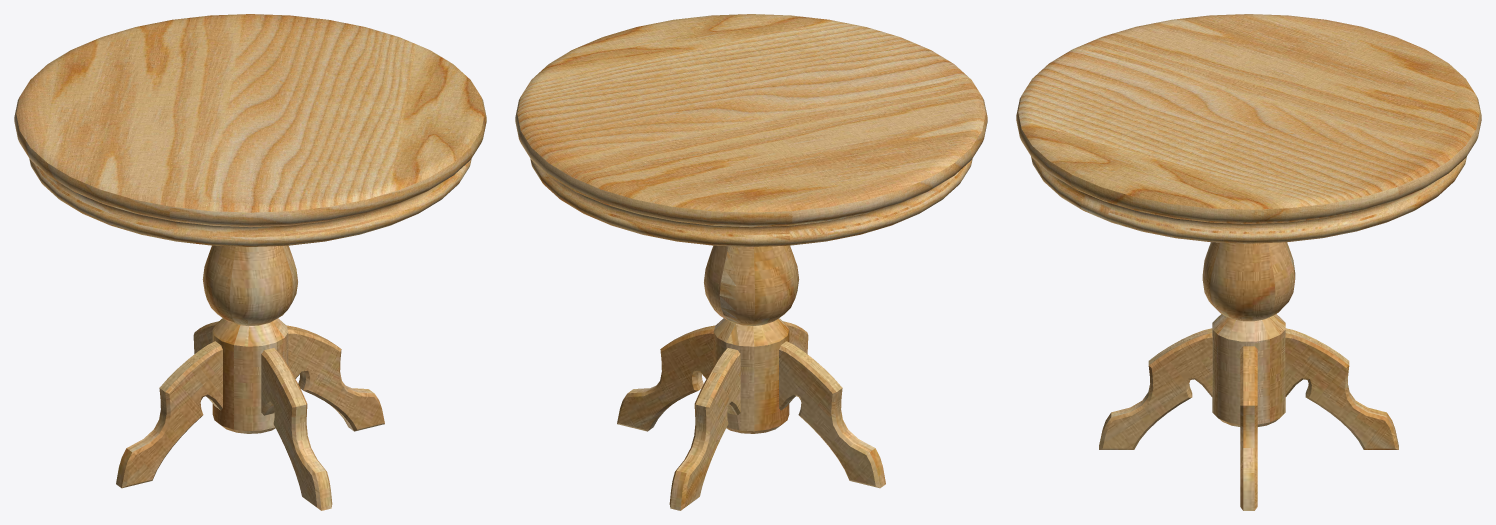
The model's file is table.obj.
3 views of the same model, side by side, from view 1: azimuth 30°, elevation 25°; view 2: azimuth 150°, elevation 25°; view 3: azimuth 270°, elevation 25° (orthographic).
Visible parts, largest first — view 1: TABLE; view 2: TABLE; view 3: TABLE.
Part boxes in pixels (box(x1,y1,x2,y2)): TABLE: box(14, 14, 486, 510); TABLE: box(515, 14, 987, 510); TABLE: box(1016, 14, 1481, 510).
Size of the model in its own units: 40.44 by 32.5 by 40.44.
